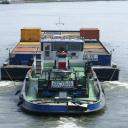tugboat: (20, 35, 109, 119)
